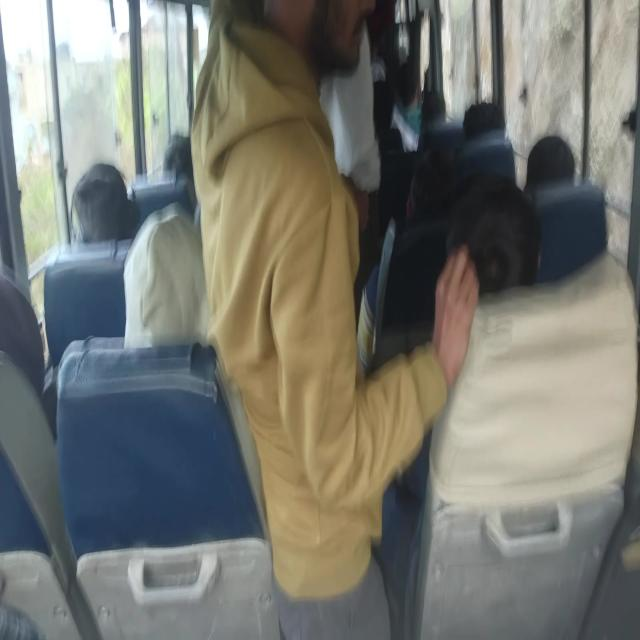person: (190, 0, 480, 638), (445, 170, 541, 296), (70, 161, 140, 244)
